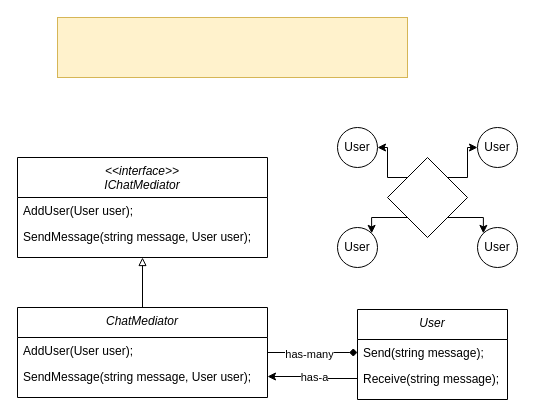
Some shapes in this 535 by 417 pixel diagram are drawn without their labels. The centre of each missing label's shape, as x and y in pixels:
"Mediator" belongs at point 427,197.
"The Mediator Pattern" belongs at point 232,47.
